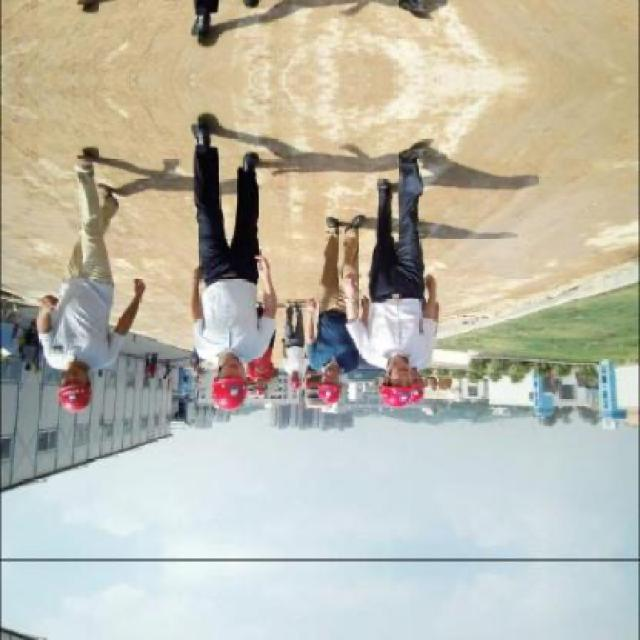con casco: (189, 360, 251, 412), (56, 369, 95, 416), (290, 378, 338, 408), (366, 384, 422, 405)
